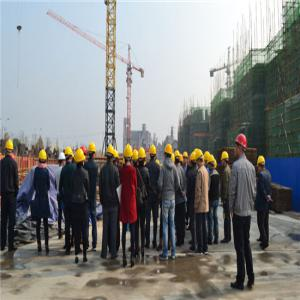red: (233, 134, 248, 161), (81, 146, 88, 162)
white: (59, 151, 66, 167)
yellow: (124, 144, 134, 165), (75, 149, 85, 167), (38, 149, 48, 167), (257, 154, 266, 173), (138, 147, 147, 166), (5, 139, 14, 157), (221, 151, 230, 168), (165, 143, 173, 162), (107, 144, 115, 163), (196, 148, 204, 166), (65, 147, 73, 163), (133, 149, 140, 167), (208, 155, 216, 170), (150, 144, 157, 161), (89, 142, 96, 159), (113, 150, 120, 166), (191, 151, 197, 166), (204, 151, 210, 164), (176, 151, 181, 166), (183, 152, 189, 164)
